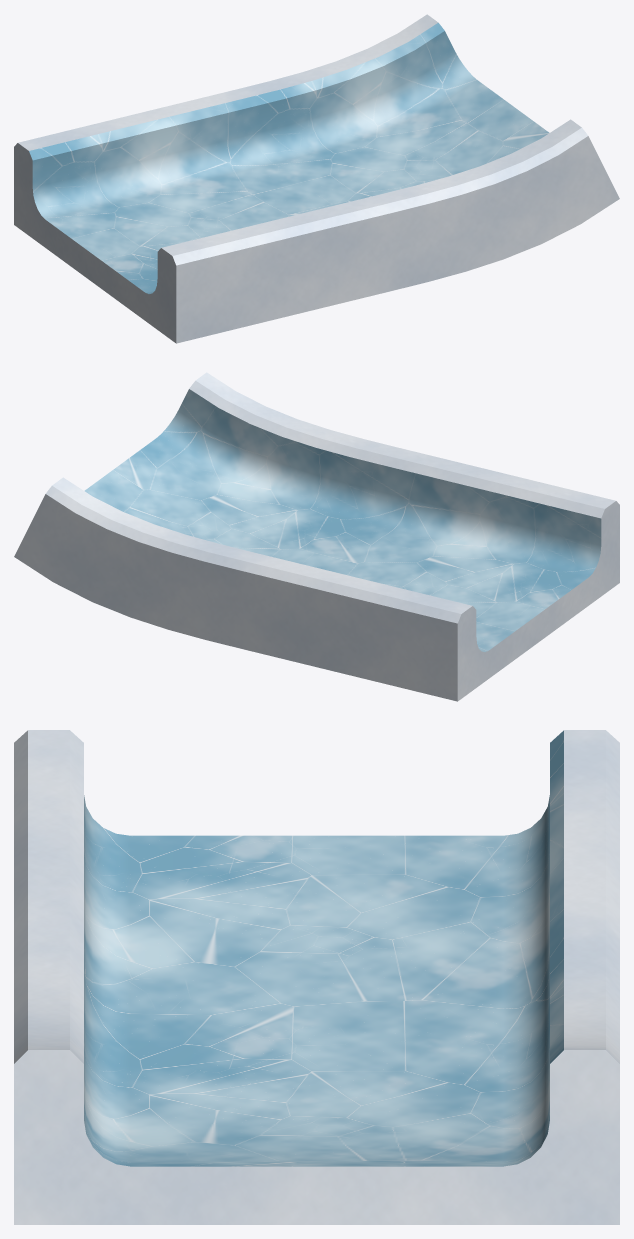
Rendered from SM_SlideChute_Kicker_400.fbx.
3 views of the same model, one above another, from view 1: azimuth 30°, elevation 25°; view 2: azimuth 150°, elevation 25°; view 3: azimuth 270°, elevation 25° (orthographic). The views are drawn at different scales.
Parts seen in each view (by area): view 1: SM_SlideChute_Kicker_400; view 2: SM_SlideChute_Kicker_400; view 3: SM_SlideChute_Kicker_400.
Part boxes in pixels (x1,y1,x2,y2): SM_SlideChute_Kicker_400: [14, 14, 619, 343]; SM_SlideChute_Kicker_400: [14, 372, 619, 701]; SM_SlideChute_Kicker_400: [14, 730, 619, 1224].
Size of what is drawn, in the model's own units: 260 by 411 by 100.
